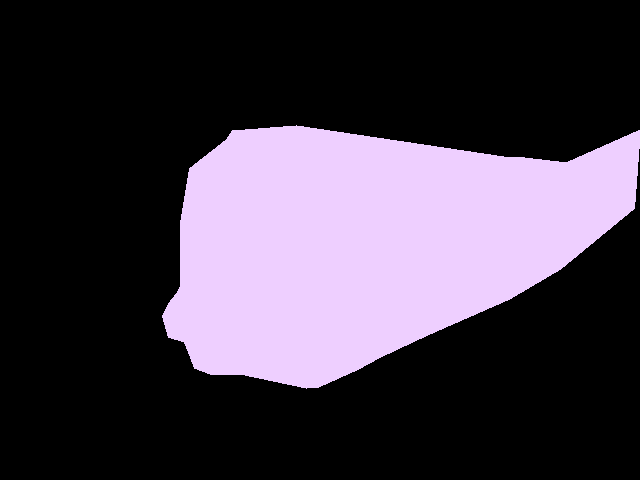Train: (162, 125, 640, 389)
